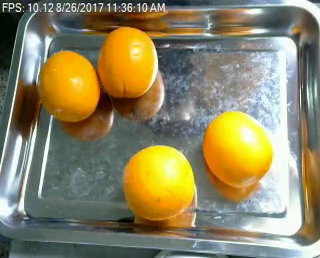Orange: (121, 143, 194, 221), (203, 110, 273, 187), (97, 26, 158, 99), (36, 50, 99, 119)
